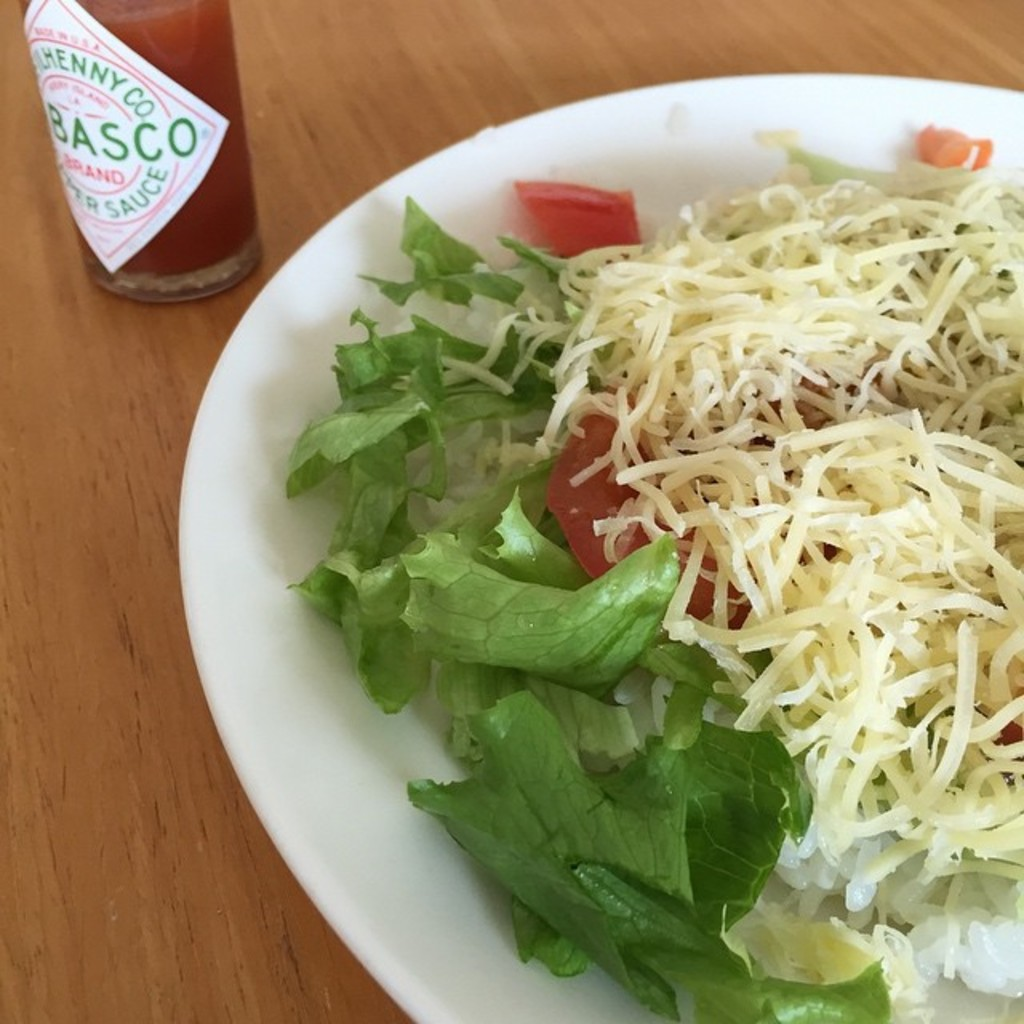salad: (264, 109, 1022, 1022)
